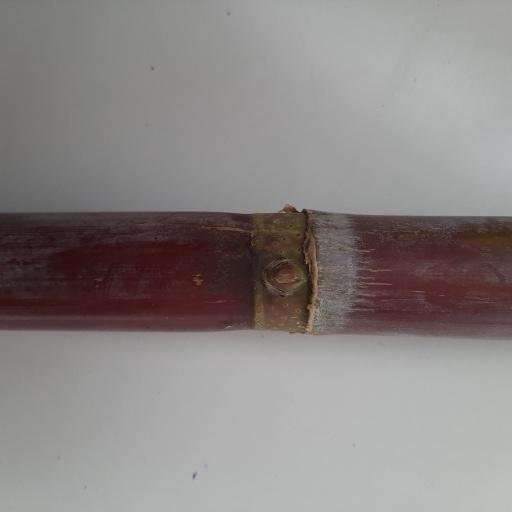Bud: (262, 257, 307, 294)
